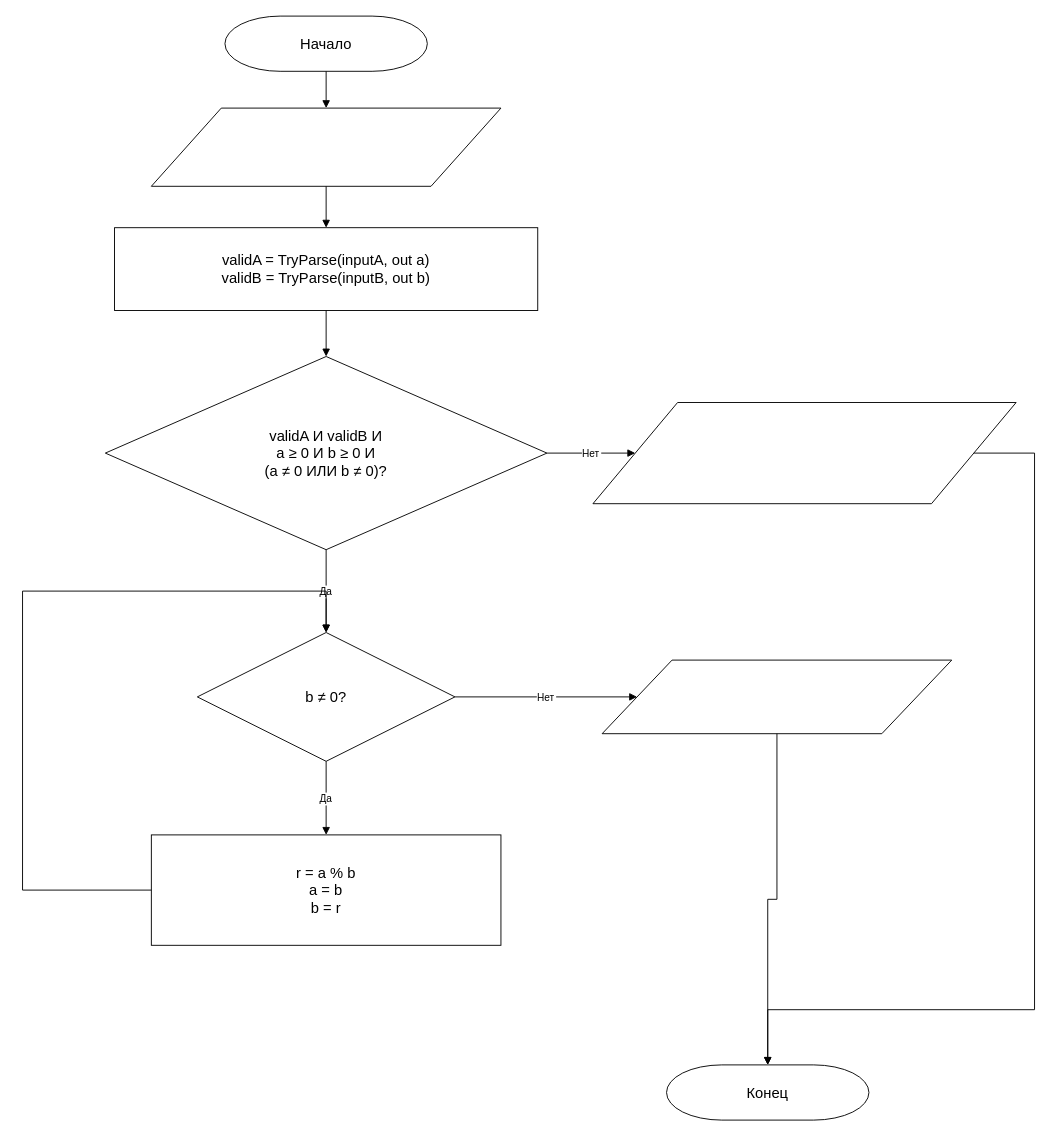
This 1058x1136 diagram has some shape labels left out. The centre of each missing label's shape, as x and y in pixels:
Ввод inputA, inputB (две строки): the point at 325,146
Вывод «НОД: », a: the point at 776,696
Вывод: «Ошибка: введите два целых неотрицательных числа, не оба нуля.»: the point at 804,453
